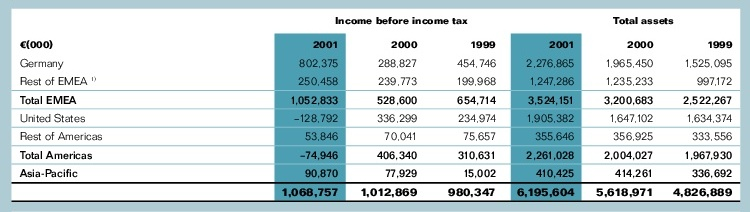table: (0, 0, 750, 212)
